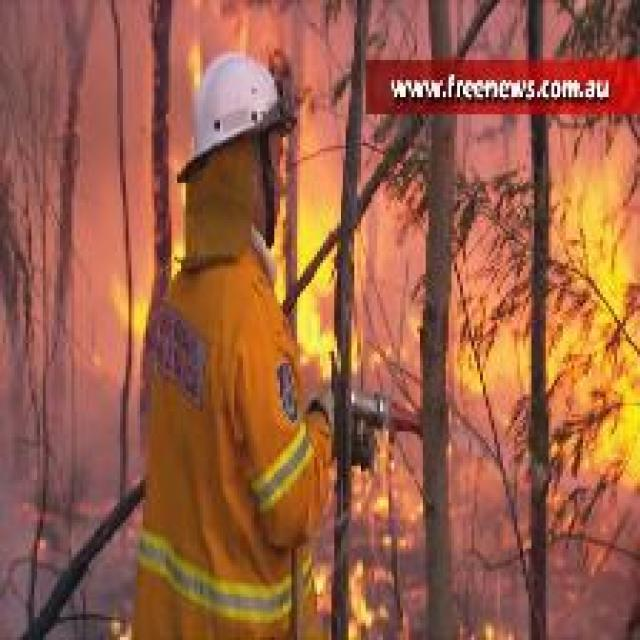Fire: (460, 147, 640, 490), (274, 213, 366, 390)
